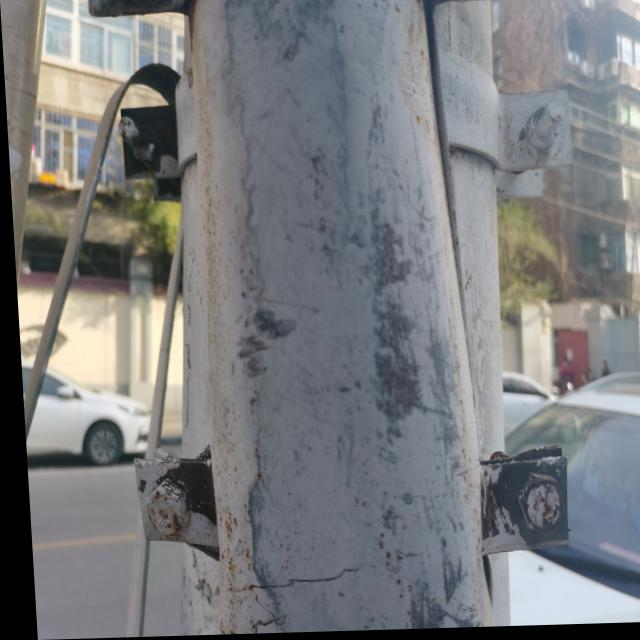Regular bolt: (510, 476, 560, 538), (142, 480, 183, 539)
